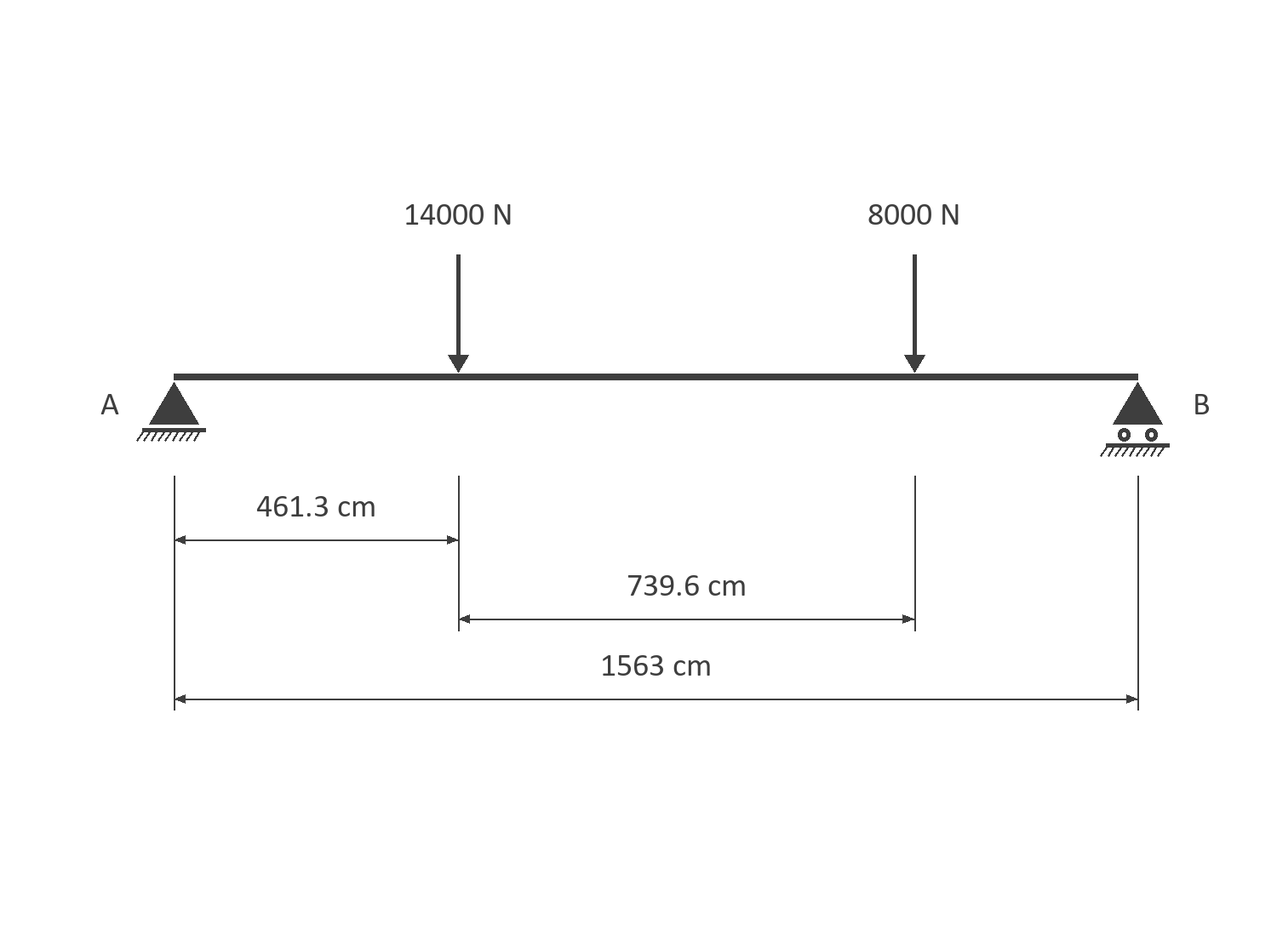pin_support: (136, 382, 206, 442)
point_load: (448, 254, 469, 373), (904, 254, 925, 373)
roller_support: (1100, 382, 1170, 457)
